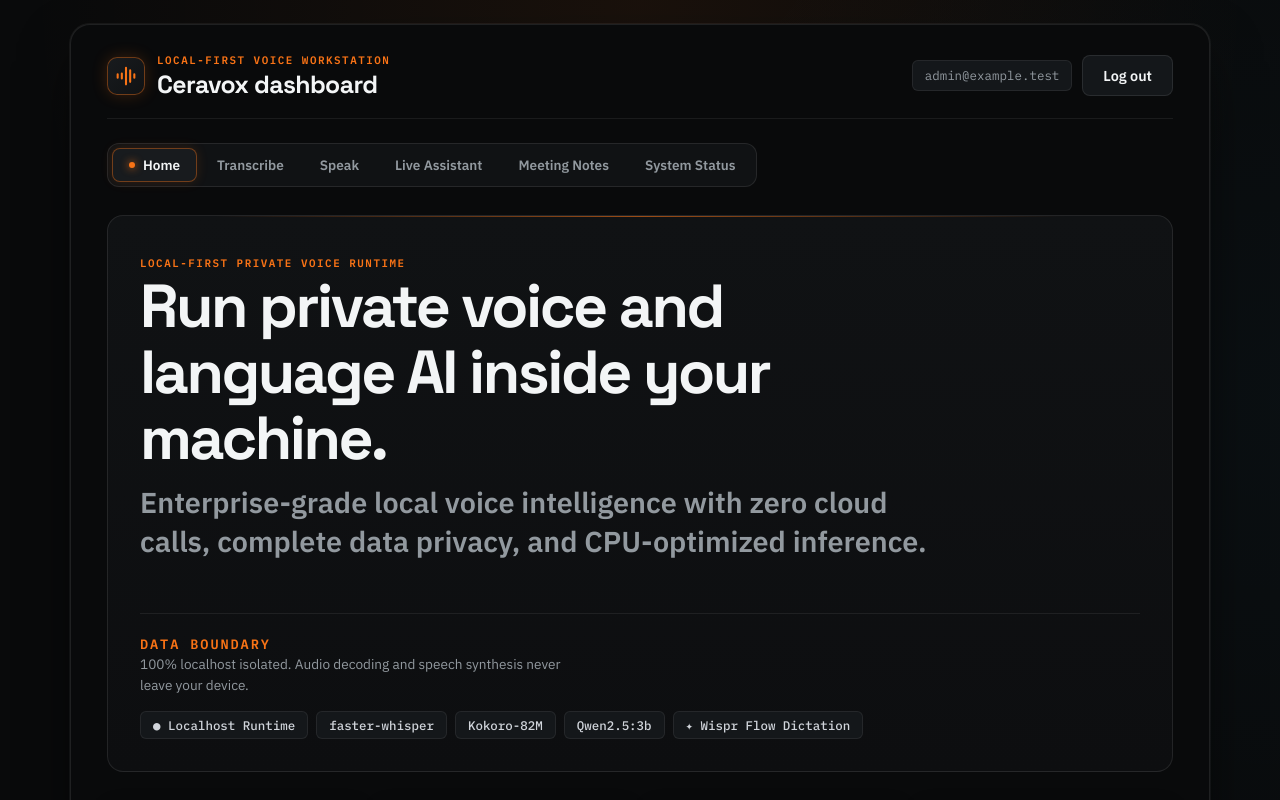
Test: S1 authentication shell › clears auth state on logout
Expected: the heading "Ceravox dashboard" is shown, [157,71,390,98]
Step 1. Click the button "Log out" → (1128, 76), box [1082,55,1173,96]
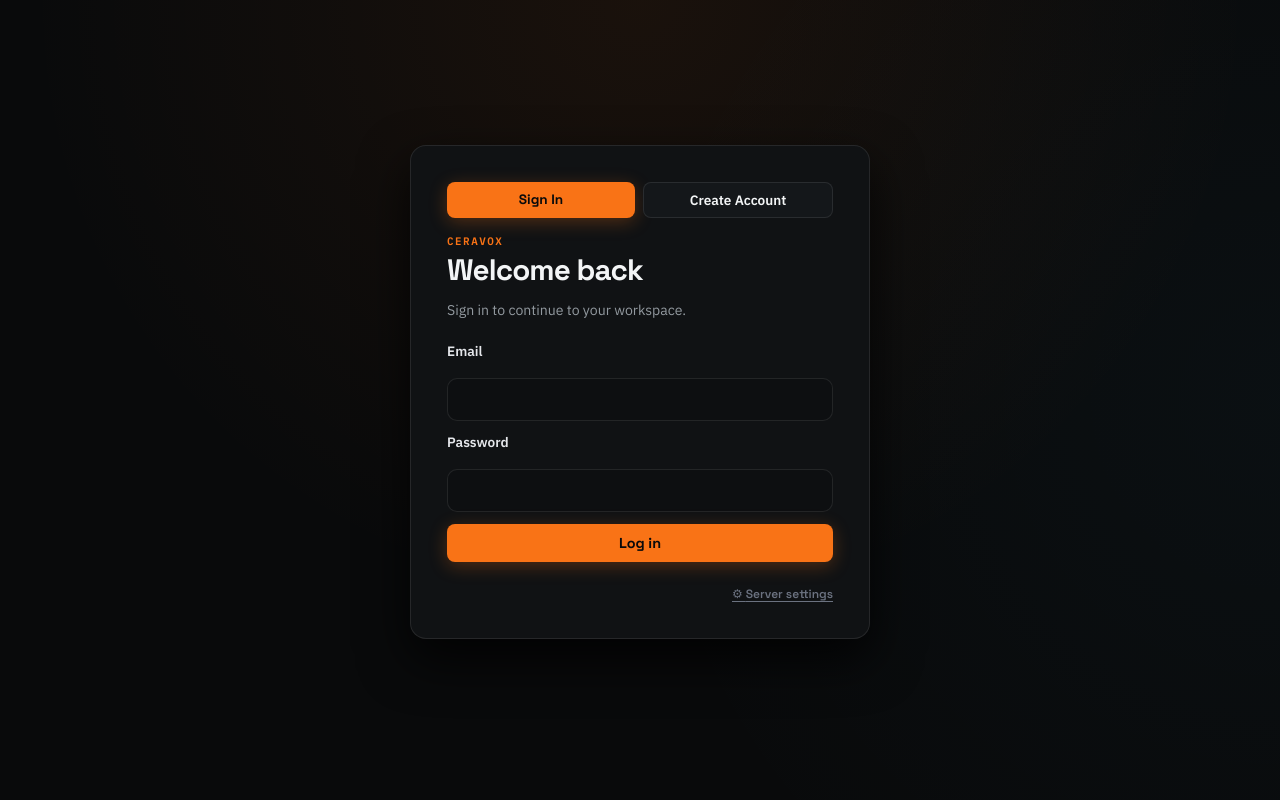
Result: the heading "Welcome back" is shown at [447,251,643,289]
